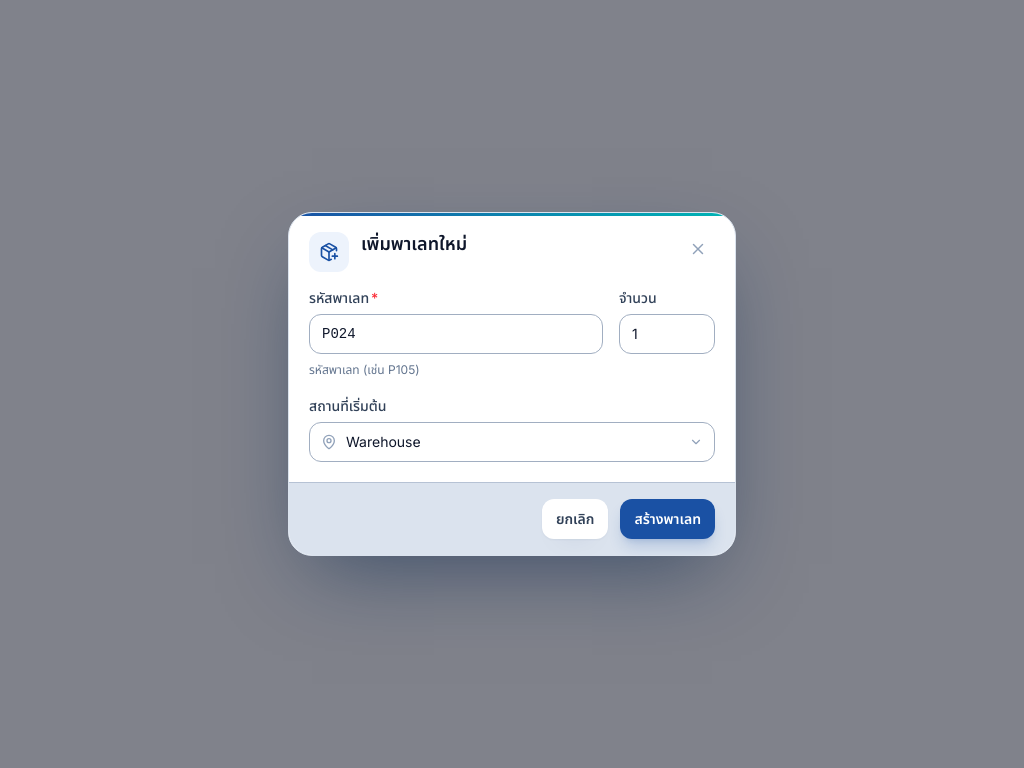
Test: AddPalletModal › กด "คำนวณเลขใหม่" หลังรหัสชน ดึงรายการใหม่แล้วเติมเลขที่ว่างให้
Expected: the field labelled "รหัสพาเลท" holds "P024", [309,314,603,354]
Click the button "สร้างพาเลท": (668, 519) [620,499,715,539]
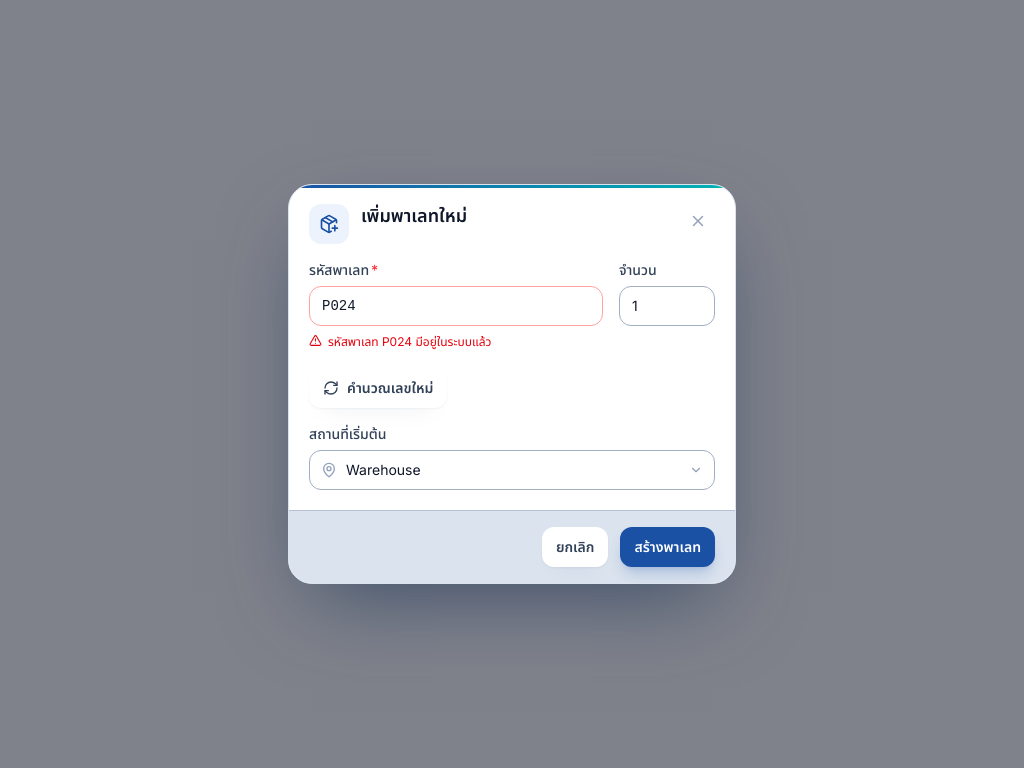
Expected: the message "รหัสพาเลท P024 มีอยู่ในระบบแล้ว" is shown, [309,334,491,349]
Click the button "คำนวณเลขใหม่": (378, 388) [309,368,447,408]
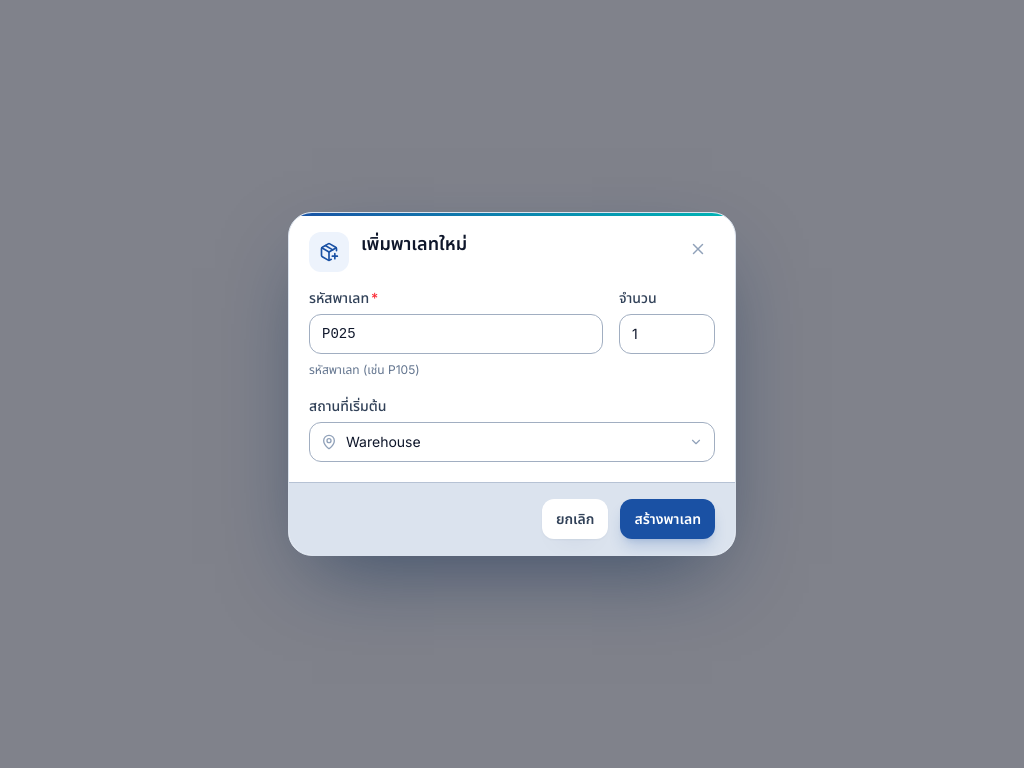
Expected: the field labelled "รหัสพาเลท" holds "P025", [309,314,603,354]
